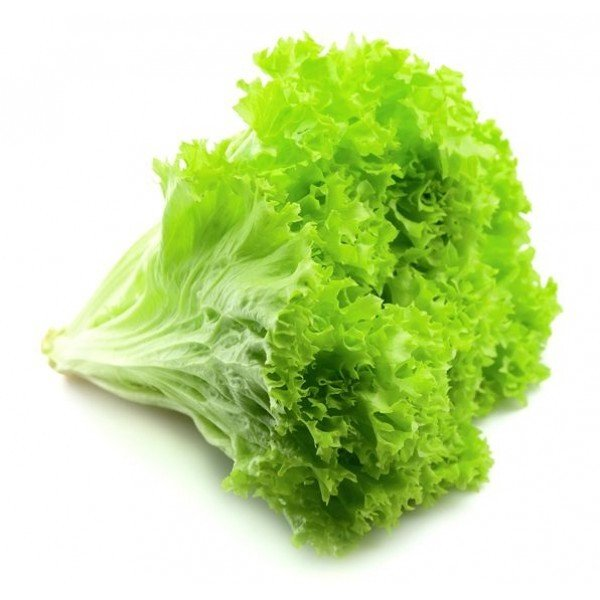Lettuce: (30, 29, 569, 562)
